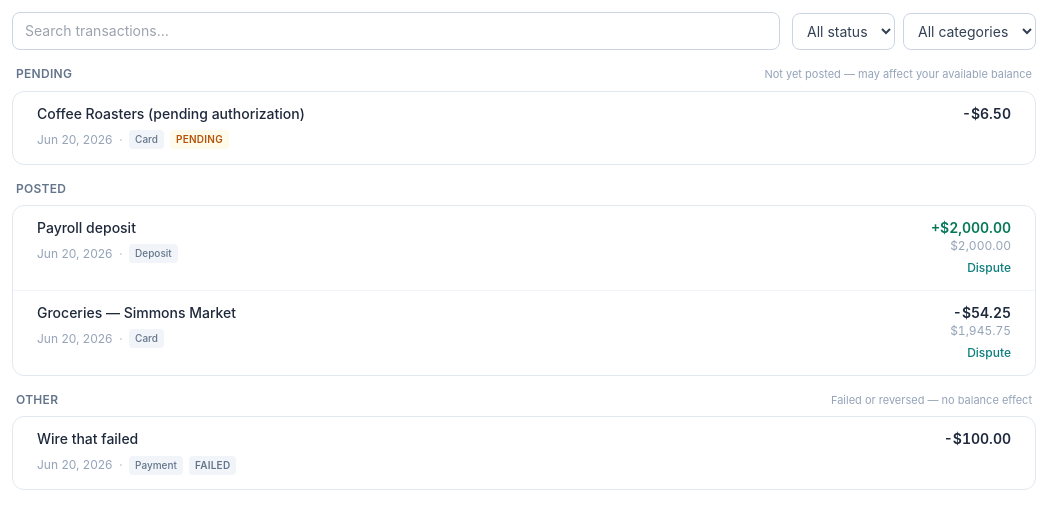
Test: <TransactionList /> › filters by category (origin) via the category select
Note: "Deposit" matches only the payroll entry.
Select "Deposit" in the 2nd dropdown named "filter by category": (970, 31) [903,12,1036,50]
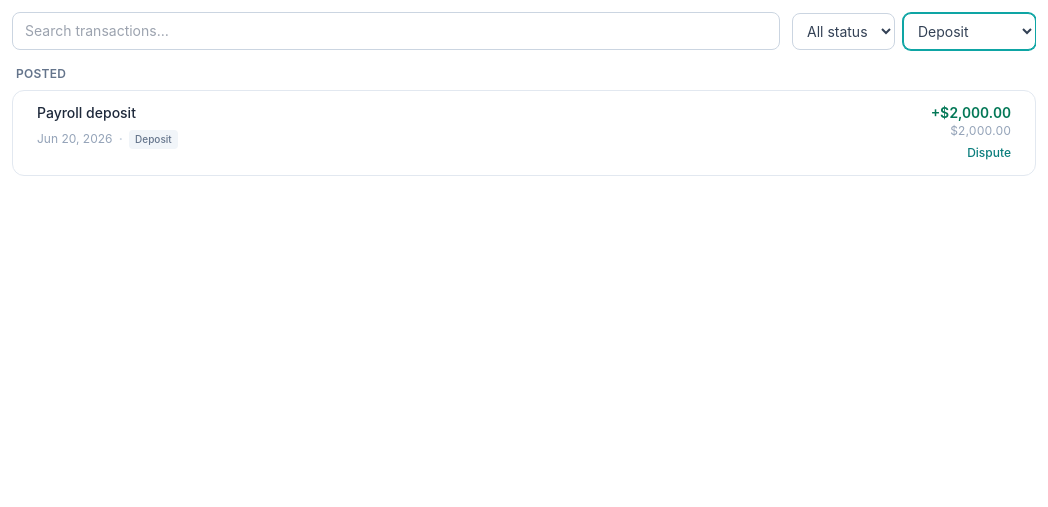
Check: the text "Payroll deposit" is shown, box [37,104,136,121]
Check: the text "Groceries — Simmons Market" is gone
